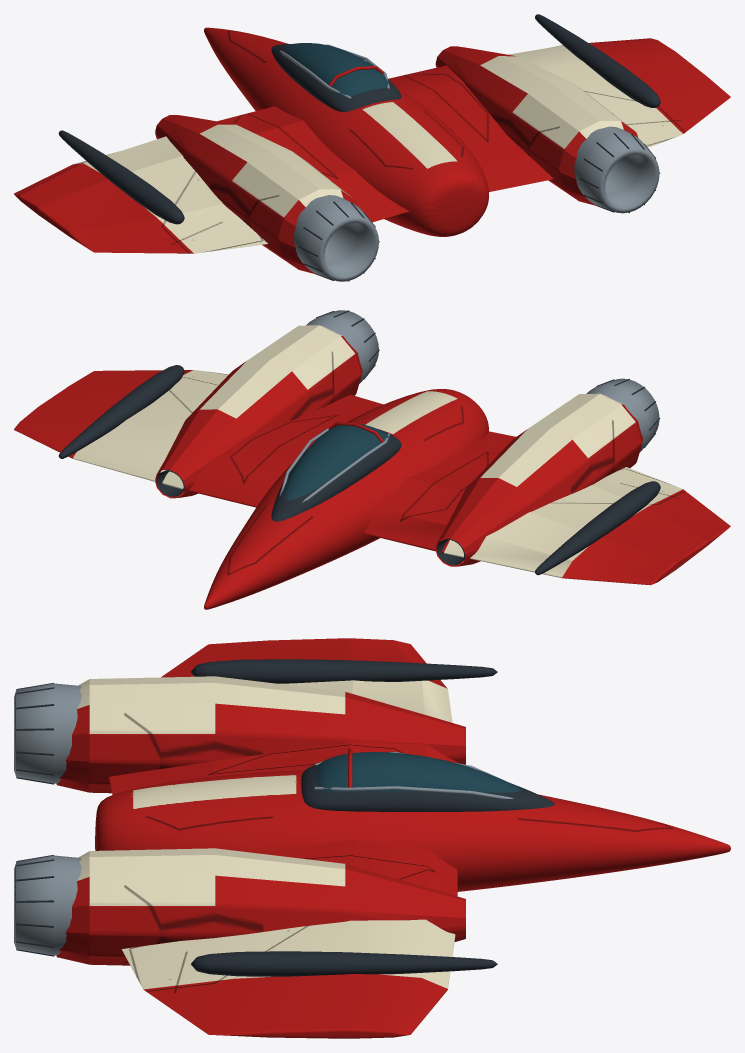
Rendered from runtime.glb.
3 views of the same model, one above another, from view 1: azimuth 30°, elevation 25°; view 2: azimuth 150°, elevation 25°; view 3: azimuth 270°, elevation 25° (orthographic). The views are drawn at different scales.
Visible parts, largest first — view 1: QuasarFanV2; view 2: QuasarFanV2; view 3: QuasarFanV2.
Part boxes in pixels (x1,y1,x2,y2): QuasarFanV2: [14, 14, 730, 281]; QuasarFanV2: [14, 310, 730, 609]; QuasarFanV2: [14, 638, 730, 1038].
Bounding box in the file's own units: 3.92 × 0.6313 × 3.03.
Materials: 6 (2 with a texture image).
